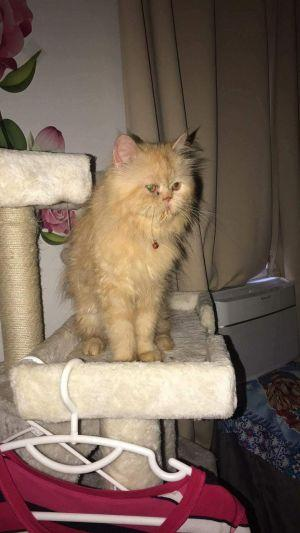persian: (100, 121, 206, 234)
